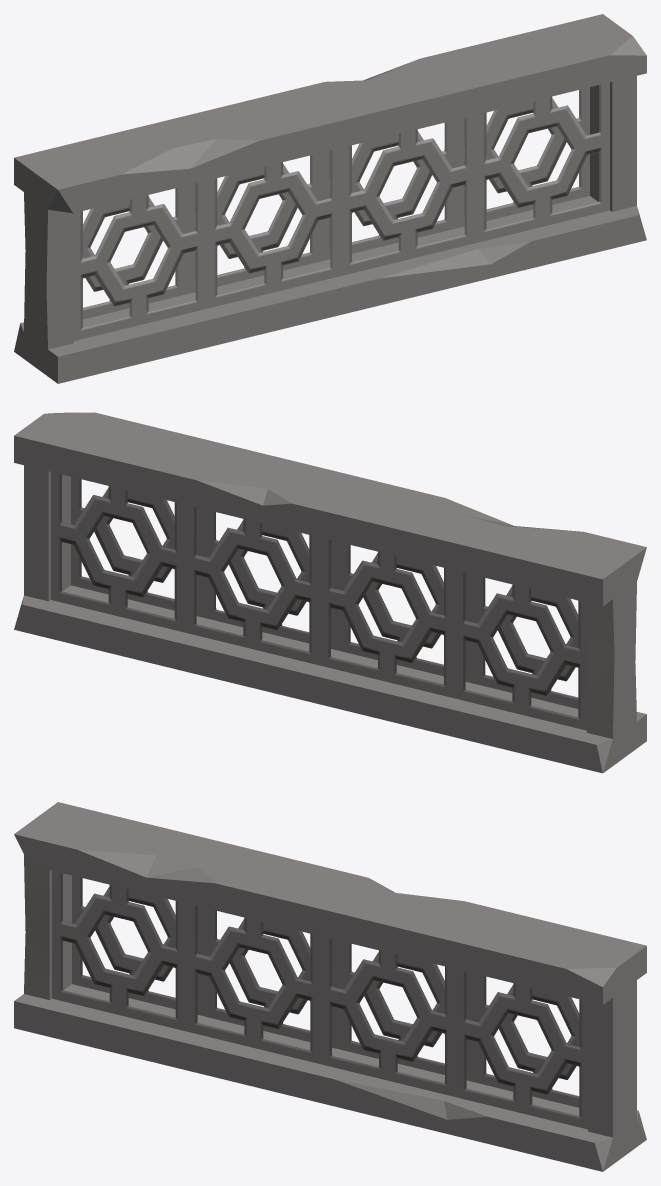
File: SM_Bld_Decorative_Block_03.fbx
3 views of the same model, one above another, from view 1: azimuth 30°, elevation 25°; view 2: azimuth 150°, elevation 25°; view 3: azimuth 330°, elevation 25° (orthographic).
Visible parts, largest first — view 1: SM_Bld_Decorative_Block_03; view 2: SM_Bld_Decorative_Block_03; view 3: SM_Bld_Decorative_Block_03.
Boxes of the visible parts, x1,y1,x2,y2 form: SM_Bld_Decorative_Block_03: (14,14,646,383); SM_Bld_Decorative_Block_03: (14,412,646,773); SM_Bld_Decorative_Block_03: (14,802,646,1171).
Size of the model in its own units: 182 by 57.28 by 23.56.
